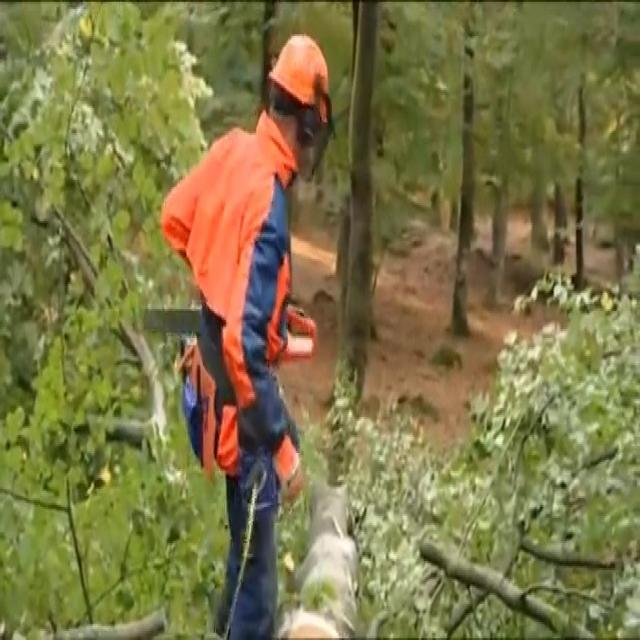Chainsaw: (138, 265, 326, 376)
